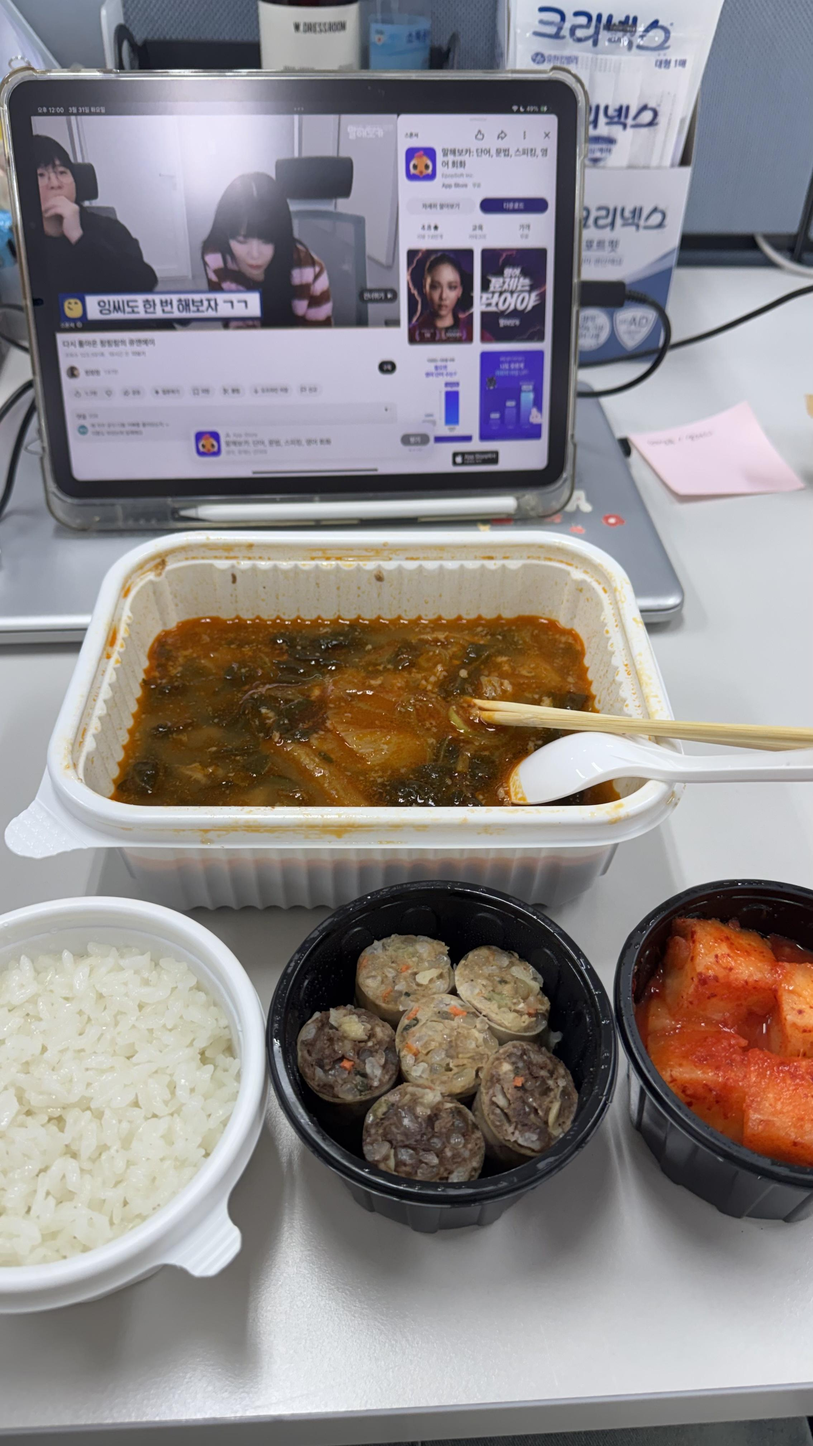Lunch Box: (6, 528, 682, 911), (267, 882, 616, 1232), (0, 898, 267, 1314), (614, 880, 813, 1222)
